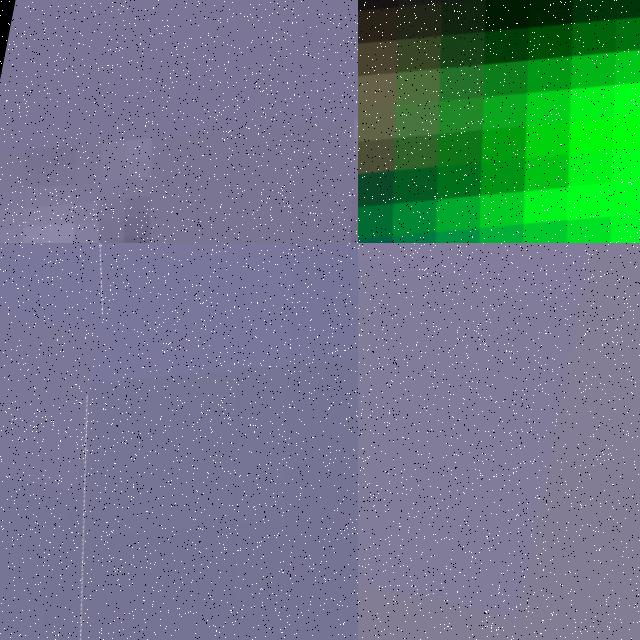drone: (19, 243, 358, 640), (0, 0, 358, 243), (358, 0, 640, 243)
